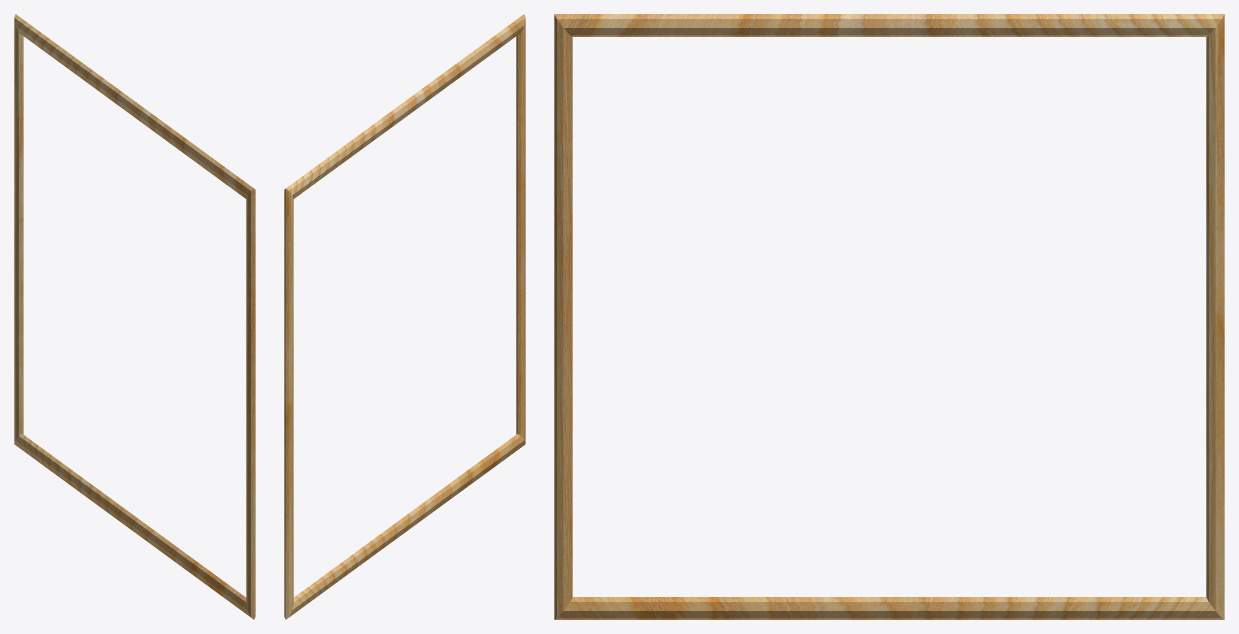
The model's file is frame_2222_left.obj.
3 renders of one model, left to right at view 1: azimuth 30°, elevation 25°; view 2: azimuth 150°, elevation 25°; view 3: azimuth 270°, elevation 25°, orthographic. The views are drawn at different scales.
Visible parts, largest first — view 1: front_frame337; view 2: front_frame337; view 3: front_frame337.
Boxes of the visible parts, x1,y1,x2,y2 form: front_frame337: (14,14,255,619); front_frame337: (284,14,525,619); front_frame337: (554,14,1224,619).
Size of the model in its own units: 9.5 by 561 by 563.
